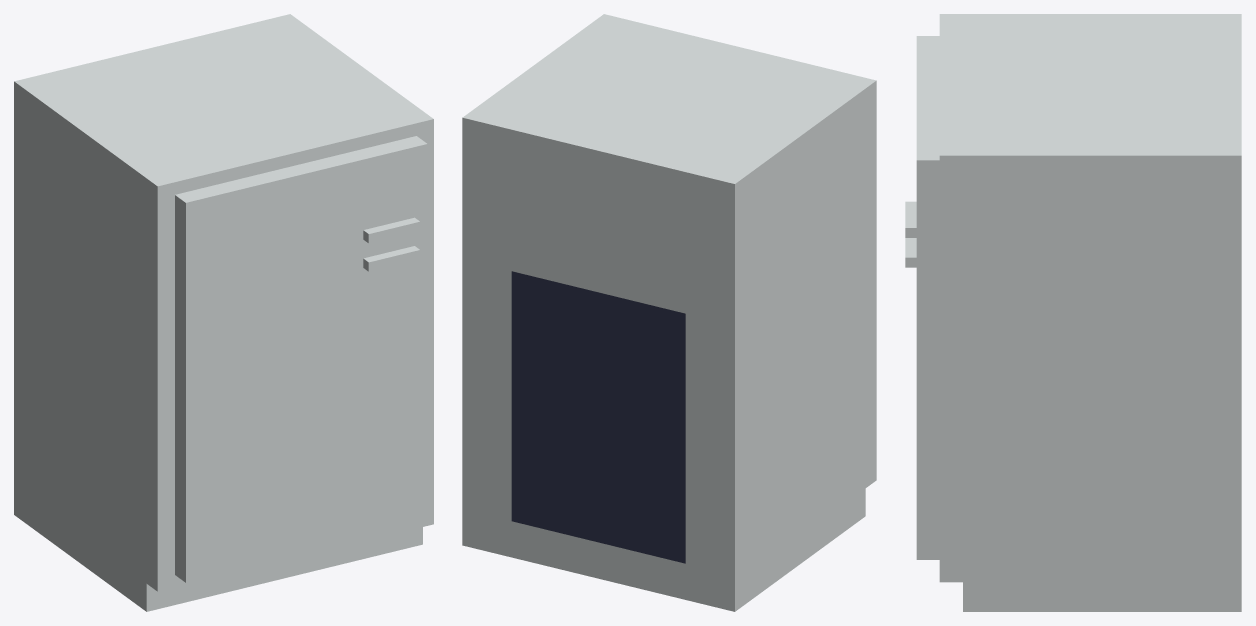
Rendered from fridge.glb.
3 views of the same model, side by side, from view 1: azimuth 30°, elevation 25°; view 2: azimuth 150°, elevation 25°; view 3: azimuth 270°, elevation 25° (orthographic). The views are drawn at different scales.
Parts seen in each view (by area): view 1: vendor-aluminium; view 2: vendor-aluminium, vendor-dark; view 3: vendor-aluminium.
Part boxes in pixels (x1,y1,x2,y2): vendor-aluminium: (14, 14, 433, 611); vendor-aluminium: (462, 14, 876, 611); vendor-dark: (511, 271, 685, 563); vendor-aluminium: (905, 14, 1241, 611).
Size of the model in its own units: 2.72 by 4.08 by 2.73.
Materials: 1 (1 with a texture image).
